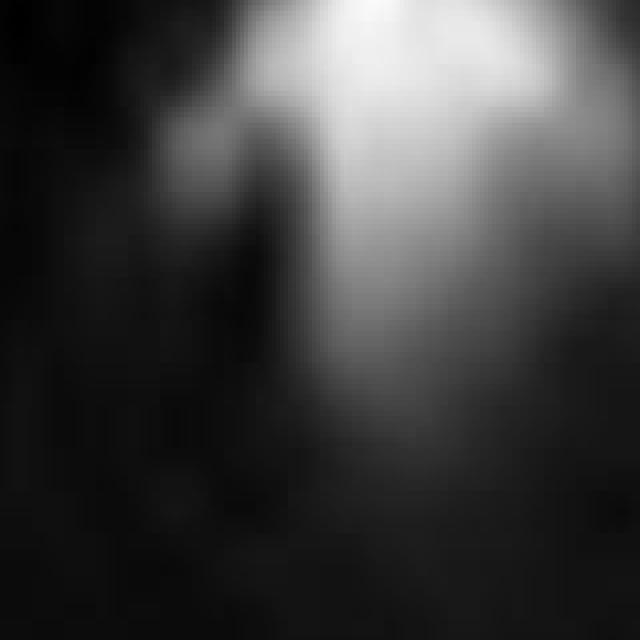person: (201, 1, 621, 428)
